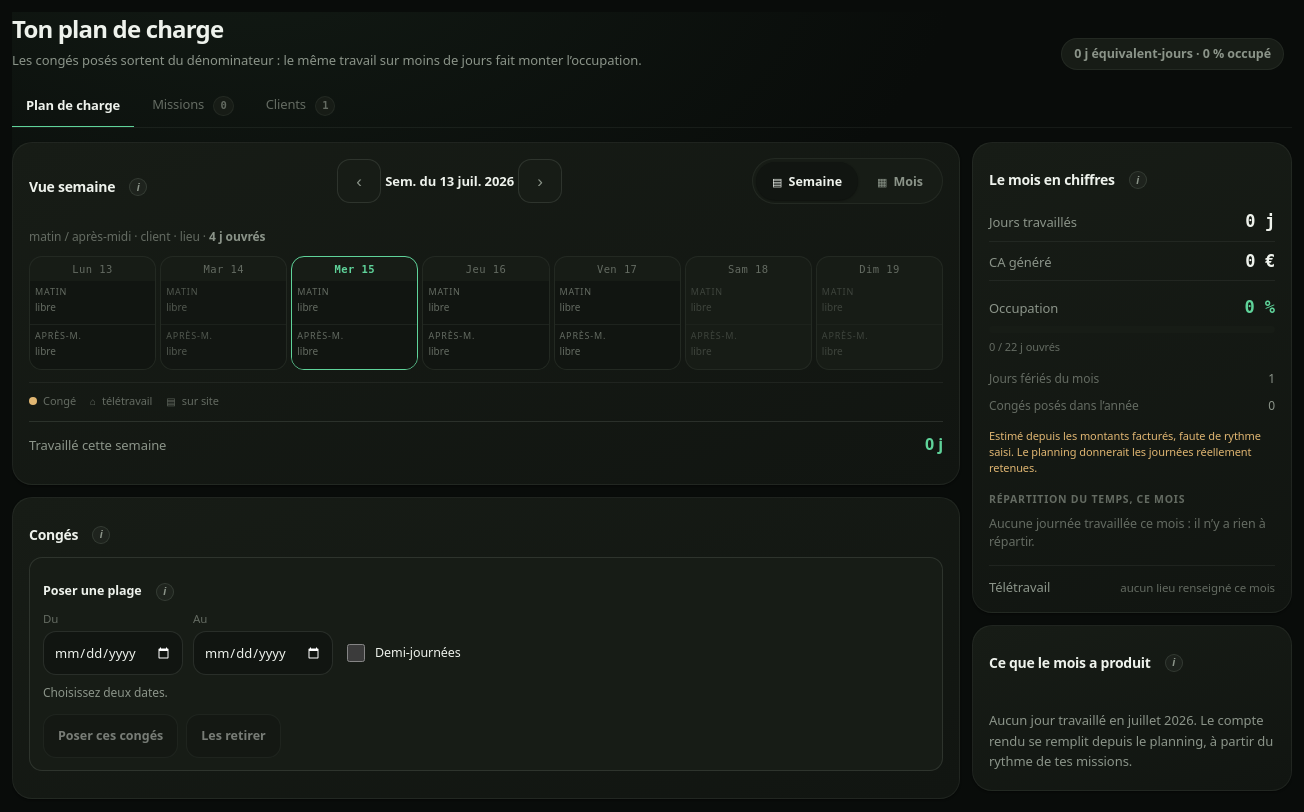
Test case: carnet affiché › montre le pays en clair, pas son code
Click the tab "Clients 1". click: (301, 106)
box: [252,84,350,128]
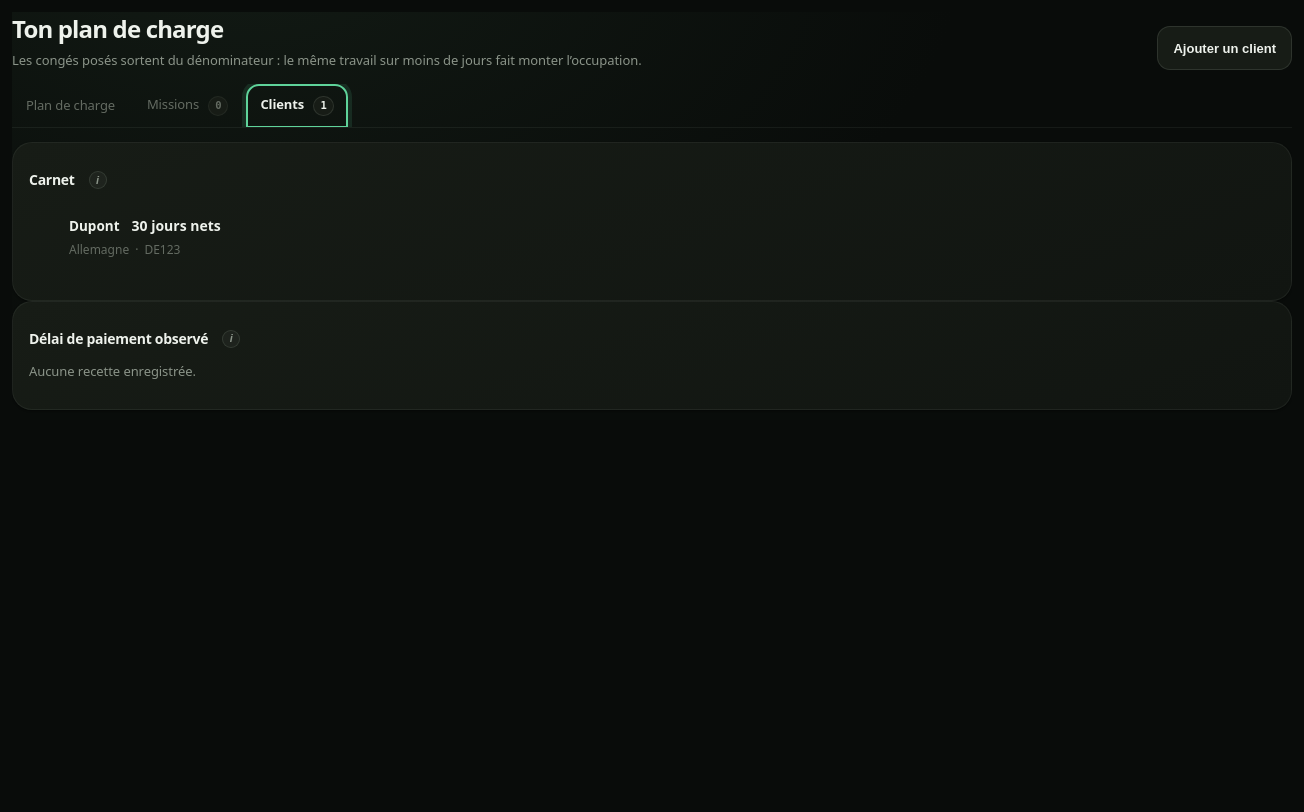
Result: the heading "Carnet" is shown at [29,170,75,189]
Result: the text "Allemagne" is shown at [69,241,129,259]
